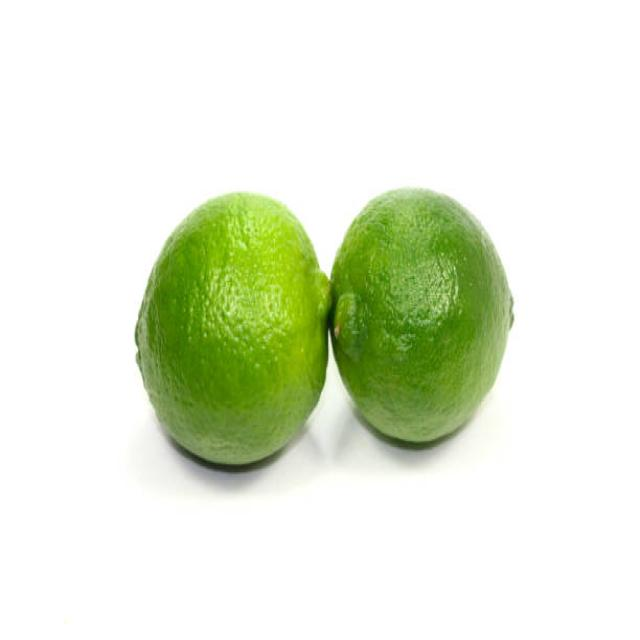Unripe: (132, 187, 334, 469), (329, 188, 515, 446)
